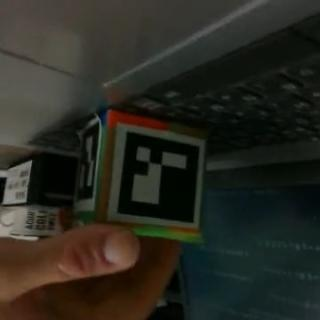armor: (106, 130, 203, 228)
robot: (74, 106, 206, 245)
